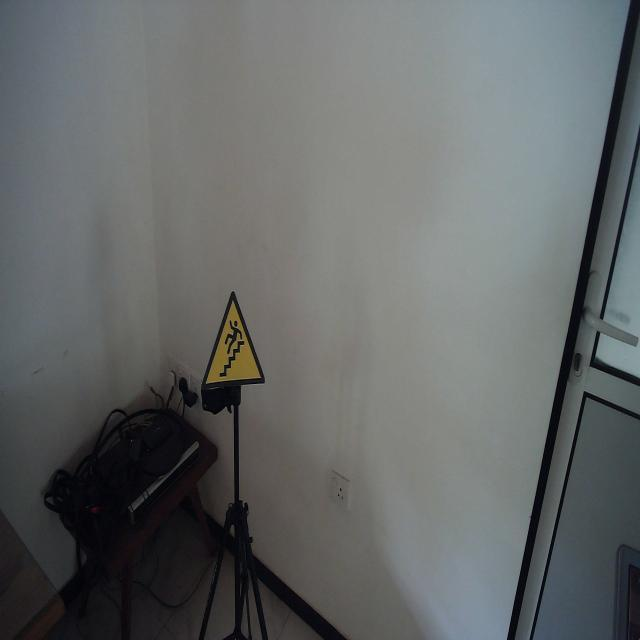stairs: (201, 288, 266, 392)
